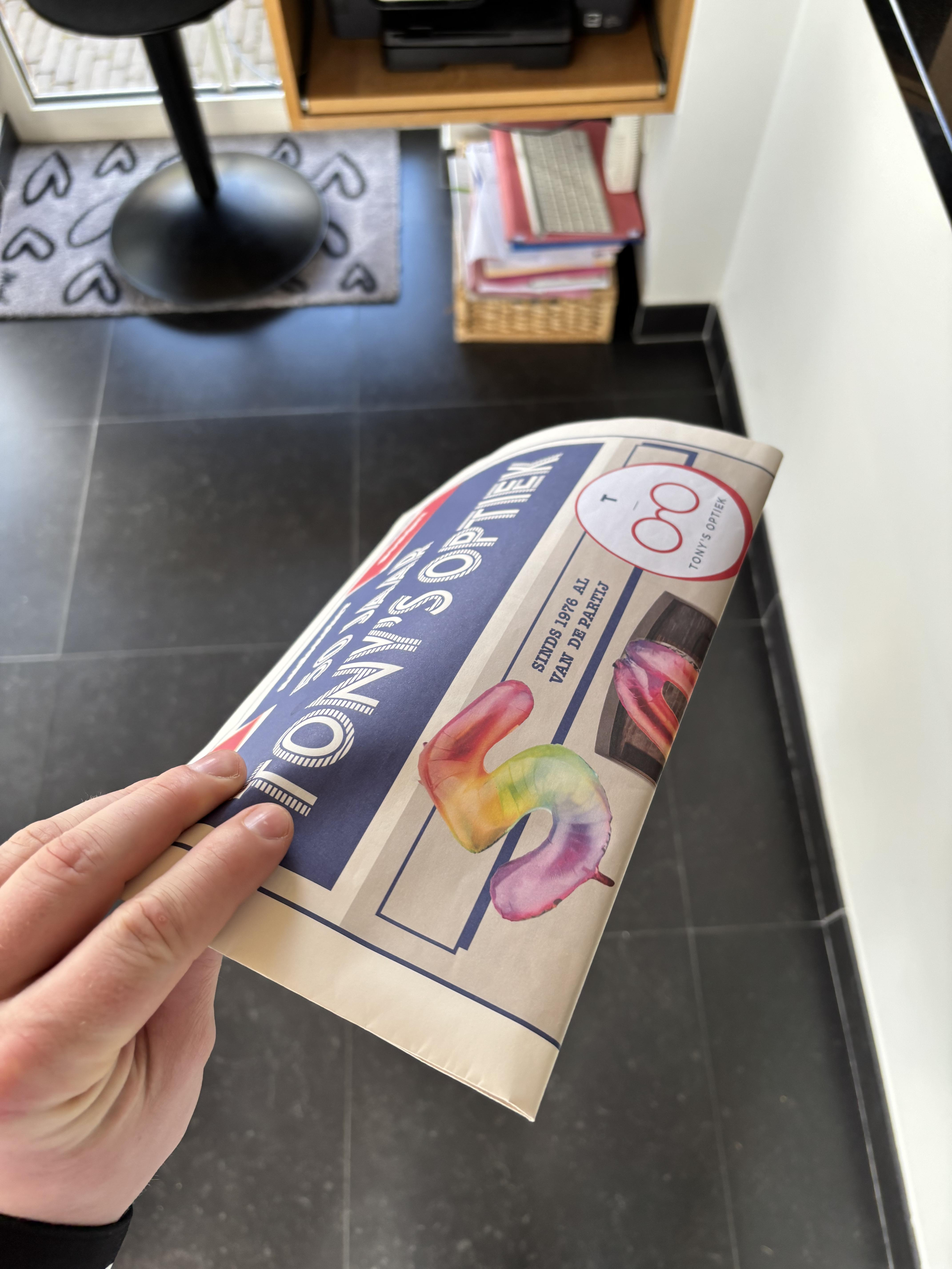Paper: (118, 416, 783, 1118)
